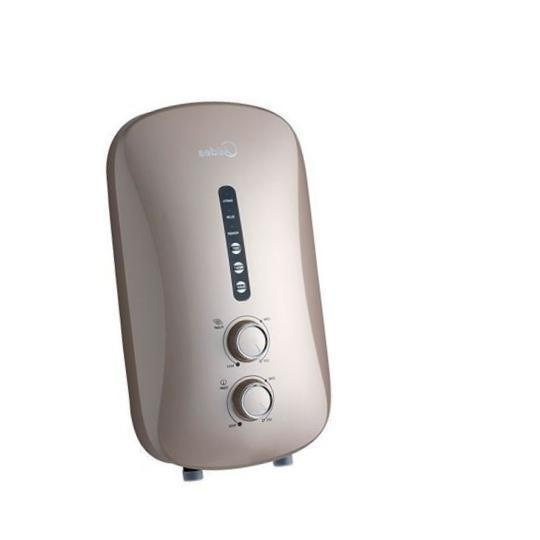Ducha: (79, 63, 348, 498)
